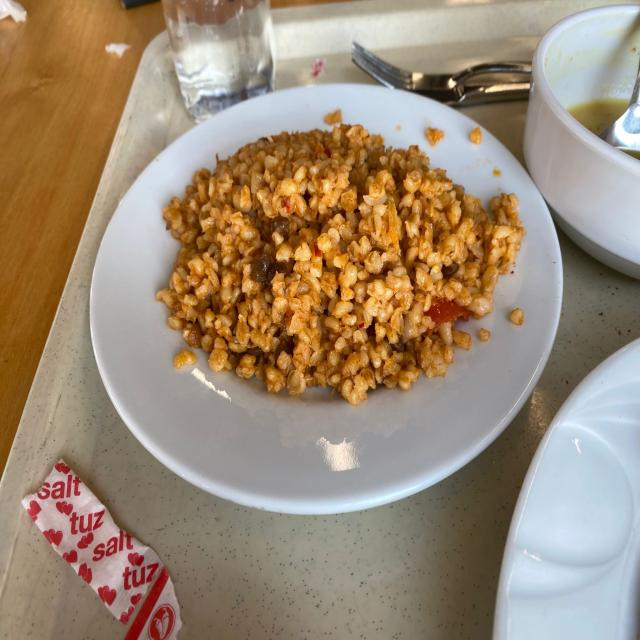ana_yemek: (98, 55, 561, 505)
